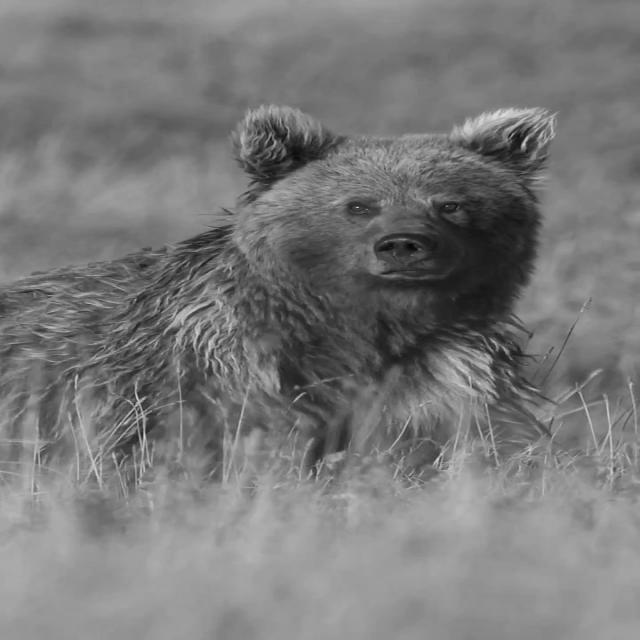Bear: (0, 103, 559, 511)
